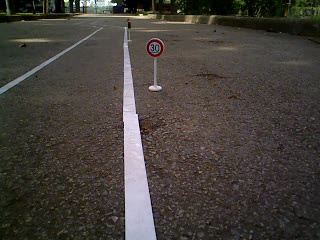limit 30: (145, 37, 167, 59)
